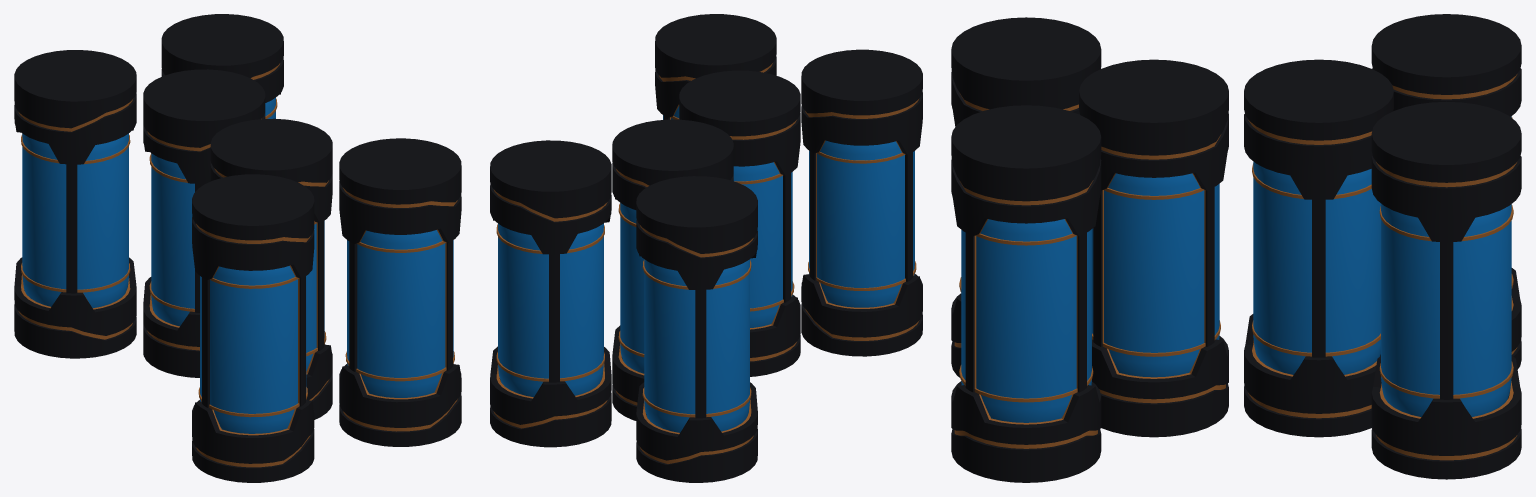
Rendered from 04_Pila_02.fbx.
3 renders of one model, left to right at view 1: azimuth 30°, elevation 25°; view 2: azimuth 150°, elevation 25°; view 3: azimuth 270°, elevation 25°, orthographic. The views are drawn at different scales.
Visible parts, largest first — view 1: PilaStock_02; view 2: PilaStock_02; view 3: PilaStock_02.
Boxes of the visible parts, <box> form: PilaStock_02: <box>14,14,461,482</box>; PilaStock_02: <box>490,14,922,482</box>; PilaStock_02: <box>951,14,1521,482</box>.
Bounding box in the file's own units: 299 × 284 × 466.
